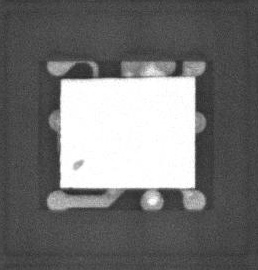DIE_INK: (67, 166, 82, 179)
